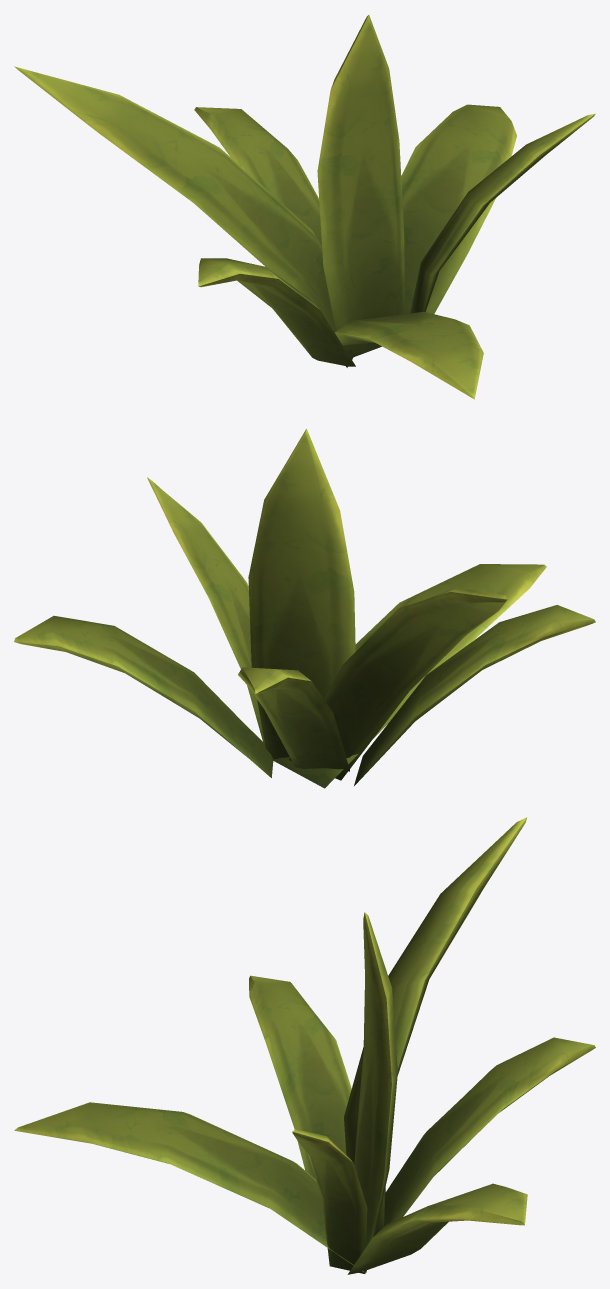
File: DE_Cactus_13.fbx
The picture shows the model from 3 angles, top to bottom: view 1: azimuth 30°, elevation 25°; view 2: azimuth 150°, elevation 25°; view 3: azimuth 270°, elevation 25°; orthographic projection. The views are drawn at different scales.
Visible parts, largest first — view 1: DE_Cactus_13; view 2: DE_Cactus_13; view 3: DE_Cactus_13.
Boxes of the visible parts, <box> form: DE_Cactus_13: <box>14,15,595,399</box>; DE_Cactus_13: <box>14,429,595,788</box>; DE_Cactus_13: <box>14,817,595,1274</box>.
Bounding box in the file's own units: 4.16 × 2.81 × 4.21.
